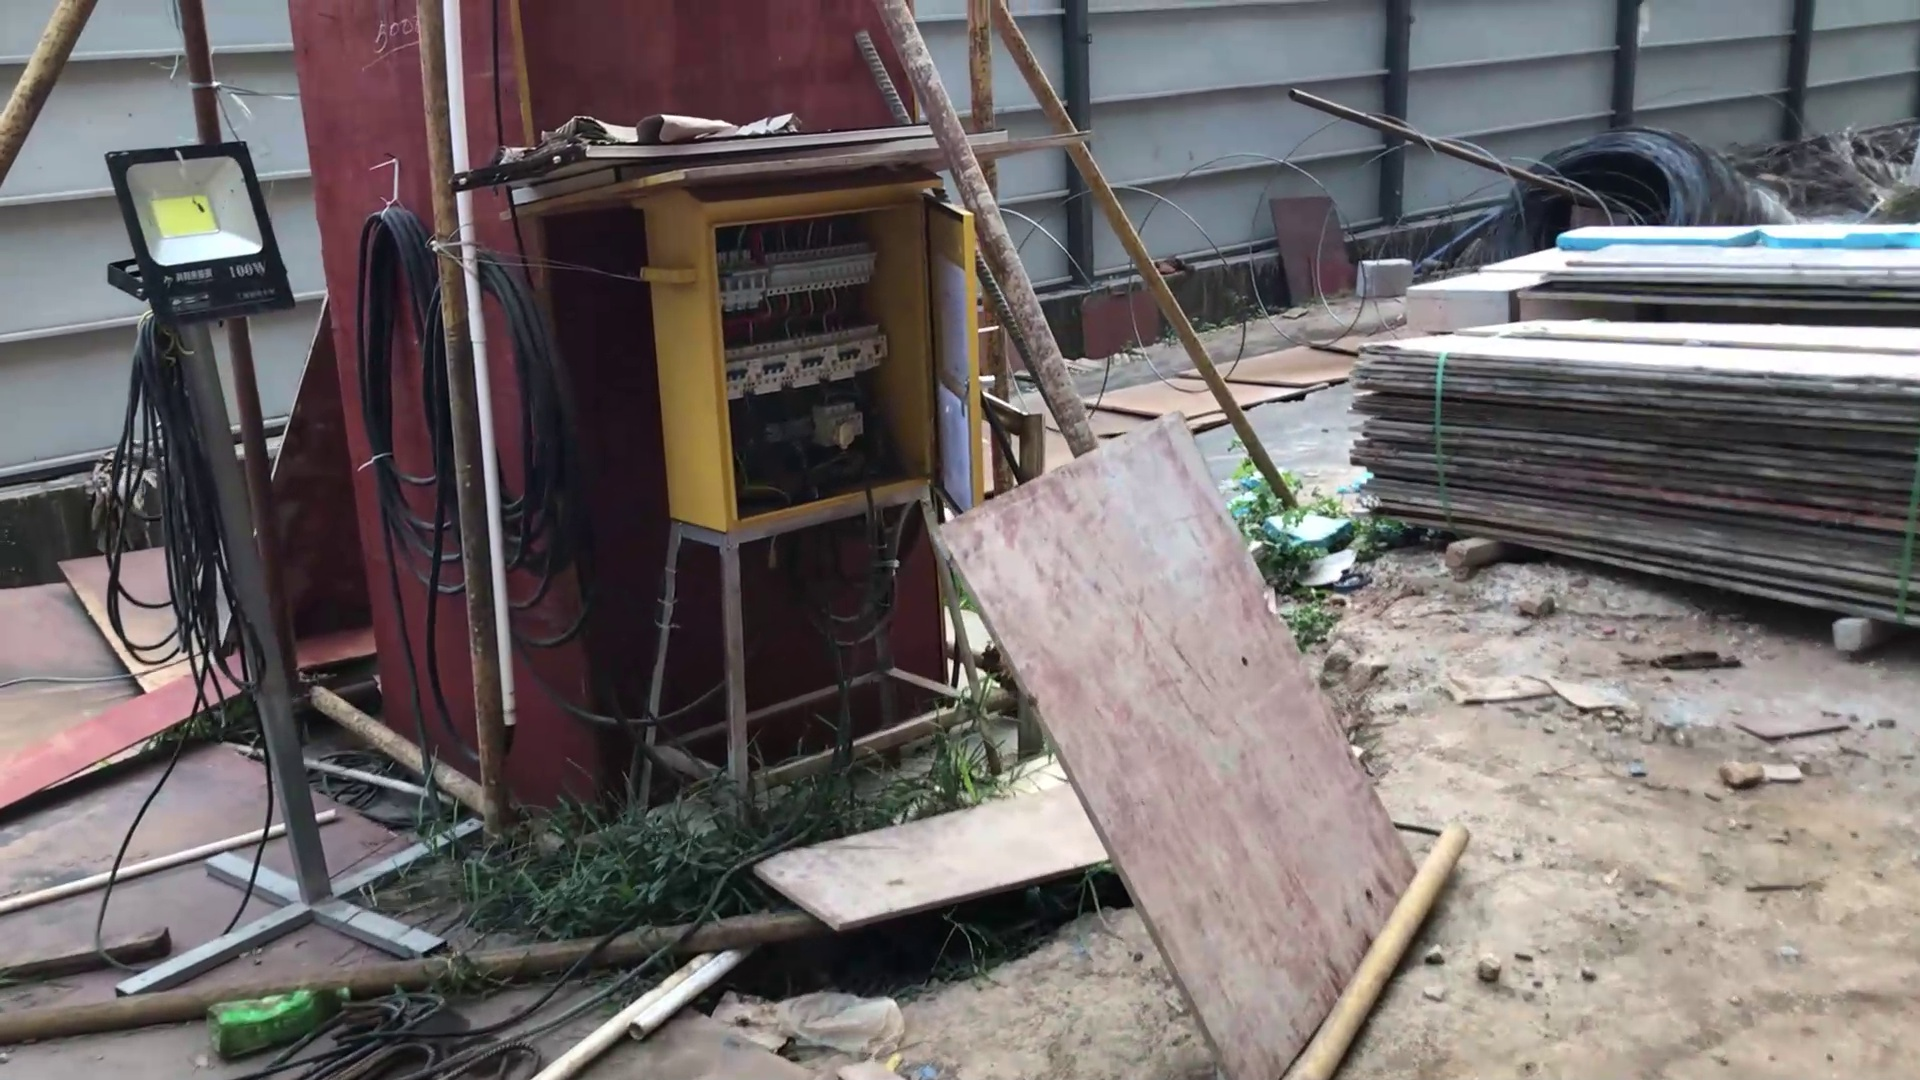board: (1341, 297, 1920, 636)
ebox: (562, 142, 1000, 818)
